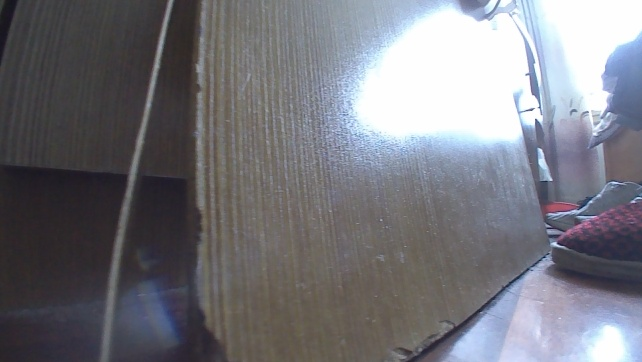wire: (95, 0, 178, 360)
